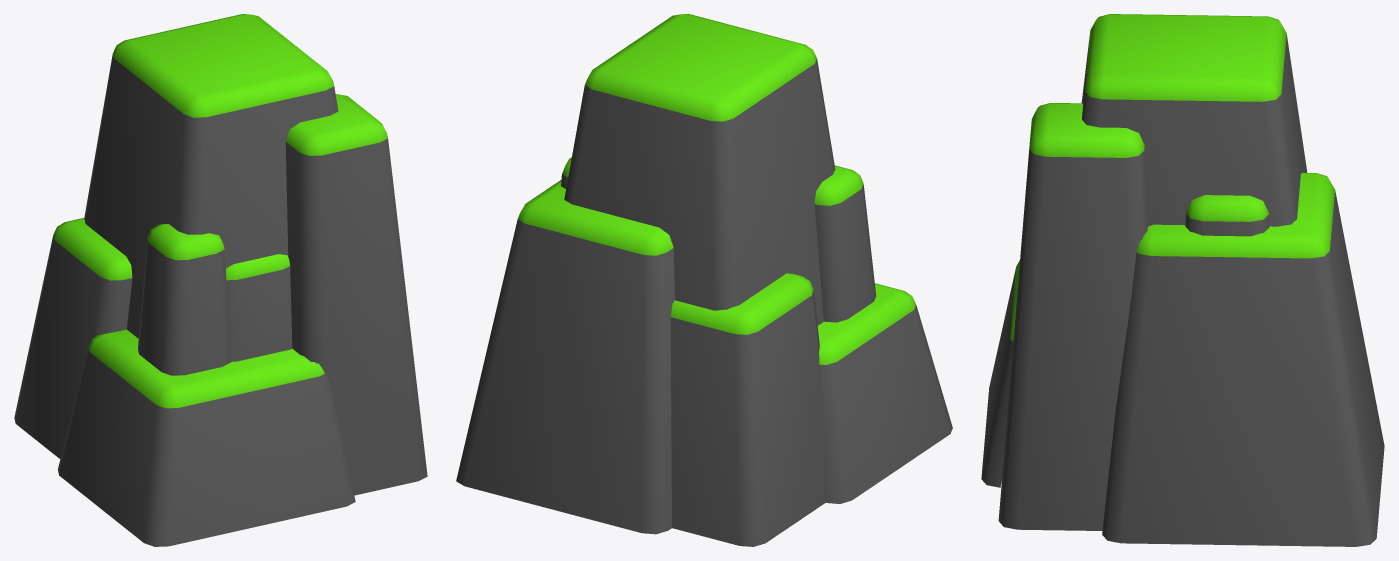
The model's file is Rocks_1_2.fbx.
3 views of the same model, side by side, from view 1: azimuth 30°, elevation 25°; view 2: azimuth 150°, elevation 25°; view 3: azimuth 270°, elevation 25° (orthographic). The views are drawn at different scales.
Parts seen in each view (by area): view 1: Rocks_1_2; view 2: Rocks_1_2; view 3: Rocks_1_2.
Part boxes in pixels (x1,y1,x2,y2): Rocks_1_2: (14,14,427,546); Rocks_1_2: (456,14,952,546); Rocks_1_2: (981,14,1384,546).
Bounding box in the file's own units: 3.64 × 4.24 × 3.7.
